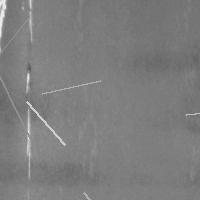scratches: (0, 45, 35, 143), (0, 9, 36, 91), (21, 96, 69, 149), (20, 61, 35, 185), (37, 76, 105, 99), (78, 187, 124, 200), (23, 1, 36, 46), (181, 102, 200, 119)
